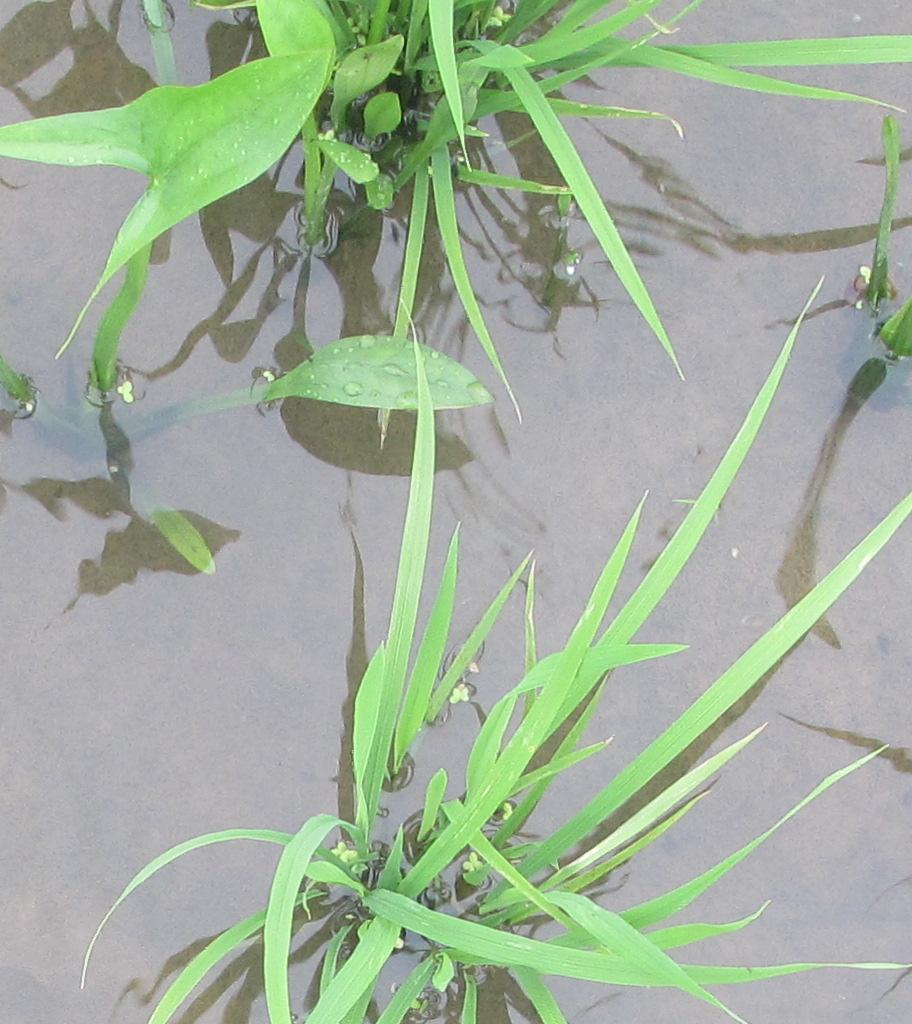Weed: (32, 53, 328, 222), (261, 322, 521, 455)
